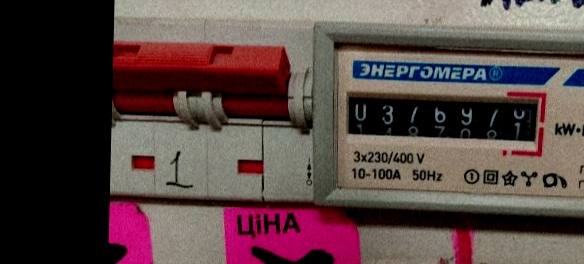0: (352, 97, 366, 119)
1: (509, 118, 522, 138)
3: (379, 101, 394, 123)
6: (431, 98, 446, 121)
7: (404, 98, 419, 122), (485, 102, 499, 126)
9: (457, 101, 472, 124)
screen: (335, 80, 548, 158)
